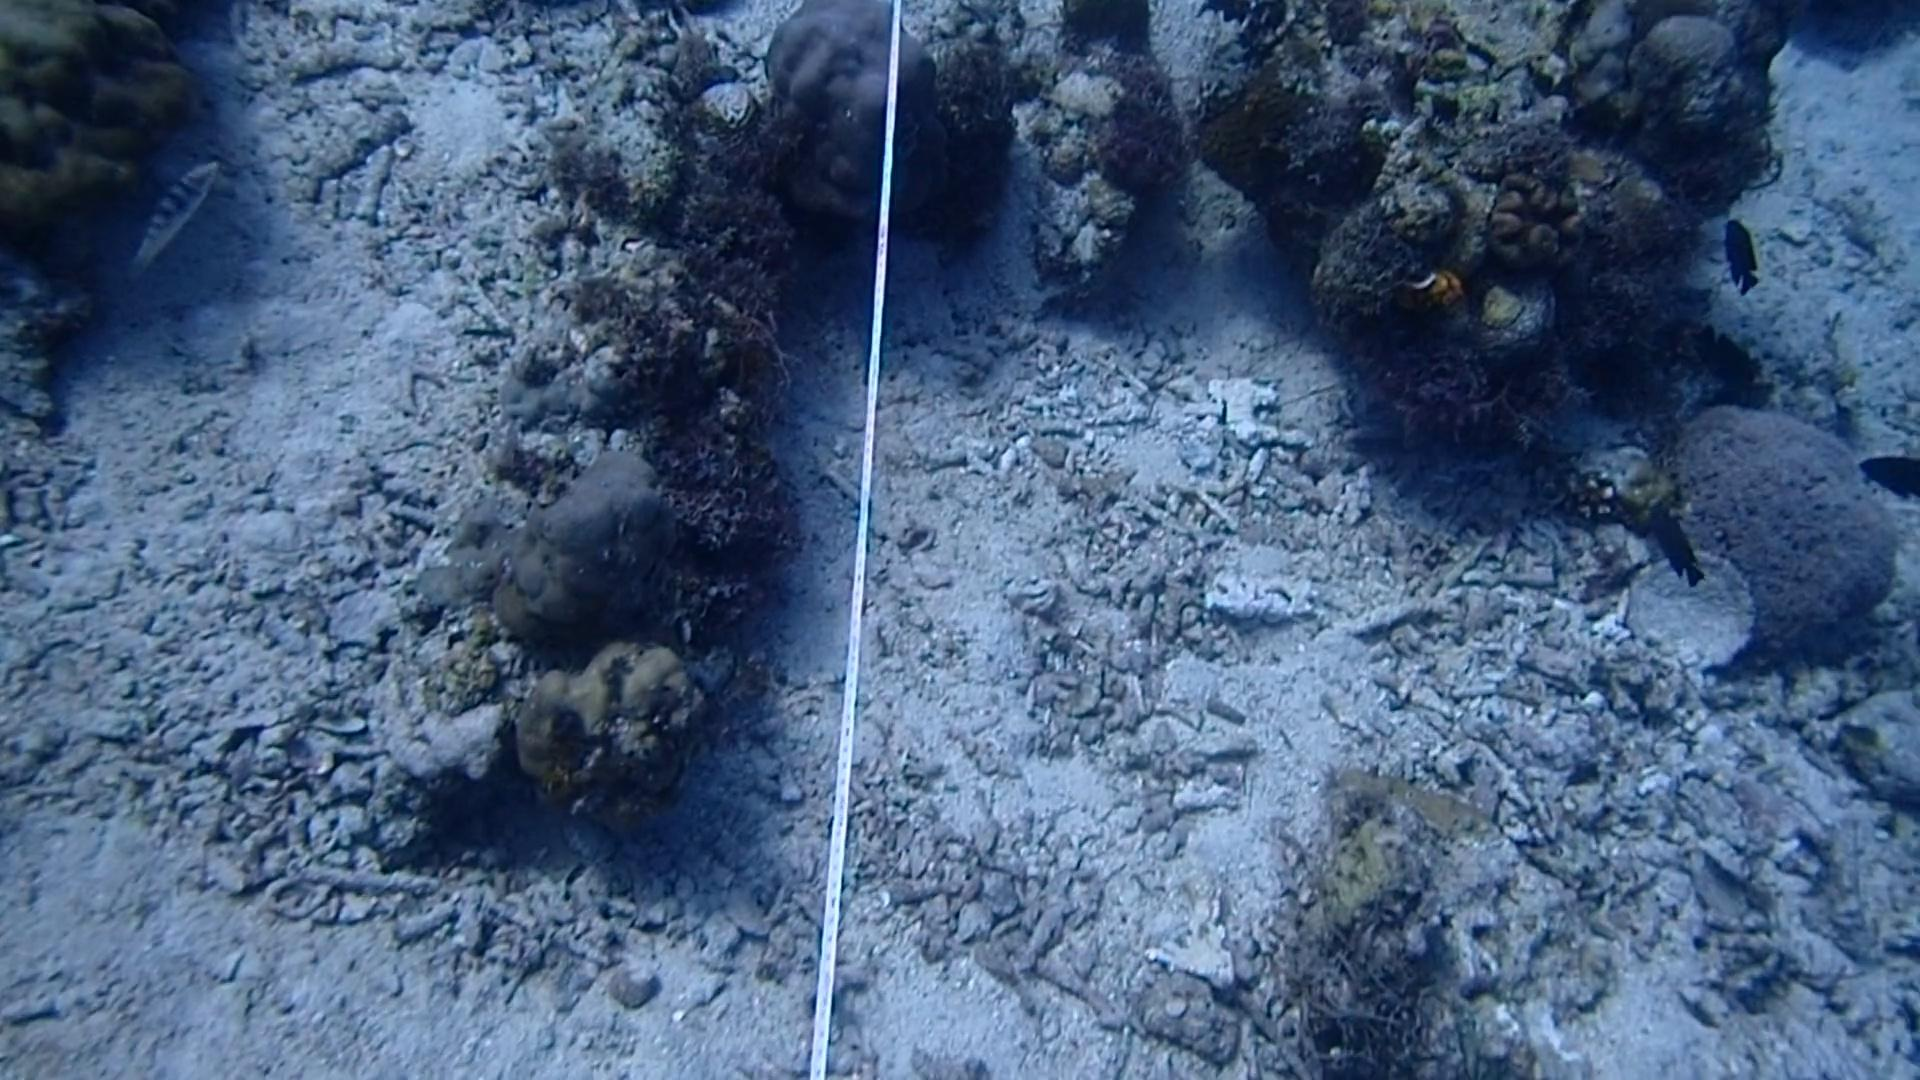Dark Fish: (1688, 315, 1760, 400), (1650, 492, 1701, 593), (1722, 204, 1763, 298), (1858, 438, 1920, 498)
Light Fish w Back Stripes: (117, 146, 224, 276)
